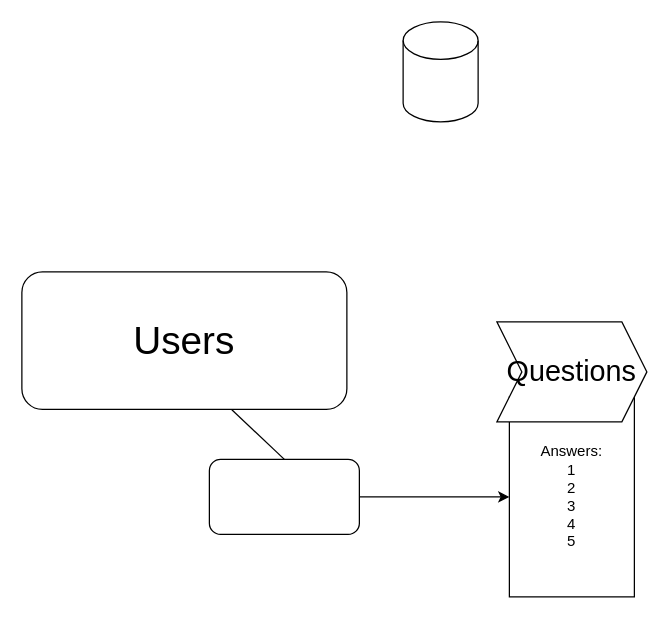
The diagram is 669 pixels wide and 619 high, and some of its shapes have lost their labels. The centre of each missing label's shape, as x and y in pixels:
DB: the point at 440,71
User Responses: the point at 283,496
